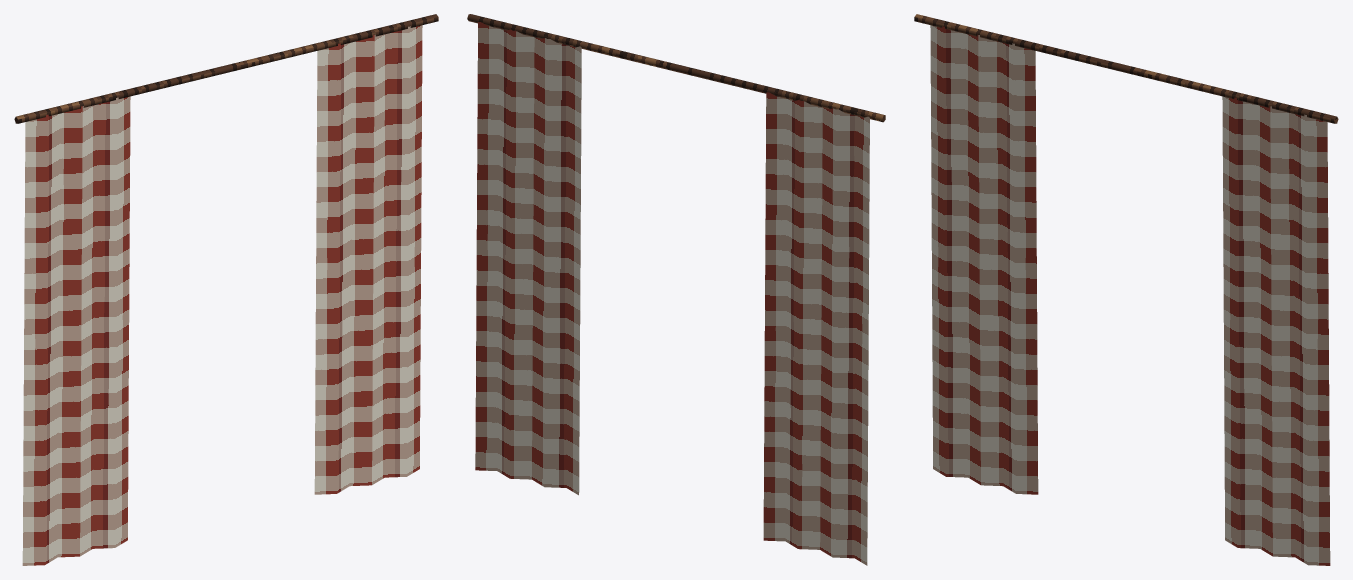
Rendered from RES_Curtains_Gingham.obj.
3 views of the same model, side by side, from view 1: azimuth 30°, elevation 25°; view 2: azimuth 150°, elevation 25°; view 3: azimuth 330°, elevation 25° (orthographic).
Visible parts, largest first — view 1: RES_Curtains_Gingham_Mesh_M_Res_Gingham, RES_Curtains_Gingham_Mesh_M_Furn_WoodDark; view 2: RES_Curtains_Gingham_Mesh_M_Res_Gingham, RES_Curtains_Gingham_Mesh_M_Furn_WoodDark; view 3: RES_Curtains_Gingham_Mesh_M_Res_Gingham, RES_Curtains_Gingham_Mesh_M_Furn_WoodDark.
Boxes of the visible parts, bbox=[...] form: RES_Curtains_Gingham_Mesh_M_Res_Gingham: bbox=[22, 25, 422, 565]; RES_Curtains_Gingham_Mesh_M_Furn_WoodDark: bbox=[14, 14, 438, 123]; RES_Curtains_Gingham_Mesh_M_Res_Gingham: bbox=[475, 22, 869, 565]; RES_Curtains_Gingham_Mesh_M_Furn_WoodDark: bbox=[467, 14, 885, 122]; RES_Curtains_Gingham_Mesh_M_Res_Gingham: bbox=[930, 25, 1330, 565]; RES_Curtains_Gingham_Mesh_M_Furn_WoodDark: bbox=[914, 14, 1338, 123].
Bounding box in the file's own units: 1.8 × 1.86 × 0.055.
2 materials, 2 textured.
